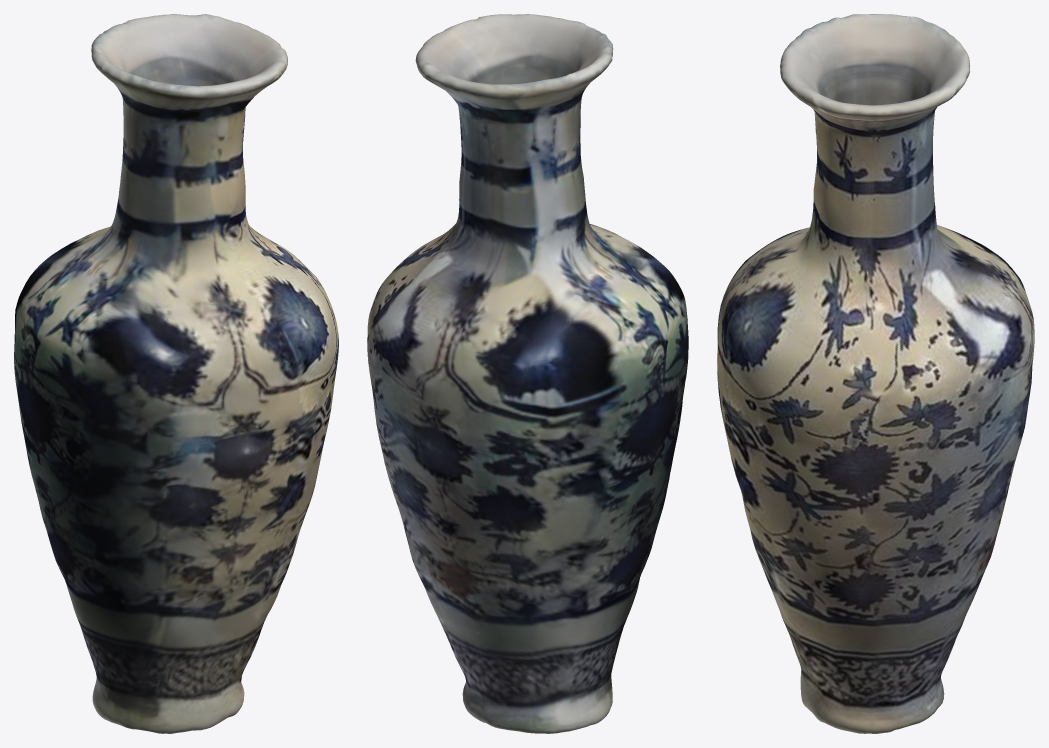
File: huaping_model.fbx
3 renders of one model, left to right at view 1: azimuth 30°, elevation 25°; view 2: azimuth 150°, elevation 25°; view 3: azimuth 270°, elevation 25°, orthographic.
Visible parts, largest first — view 1: geometry_0; view 2: geometry_0; view 3: geometry_0.
Boxes of the visible parts, box(x1,y1,x2,y2) form: geometry_0: box(14, 14, 338, 733); geometry_0: box(367, 14, 688, 733); geometry_0: box(717, 14, 1034, 733).
Size of the model in its own units: 44.17 by 98.63 by 42.89.
1 material, 1 textured.
